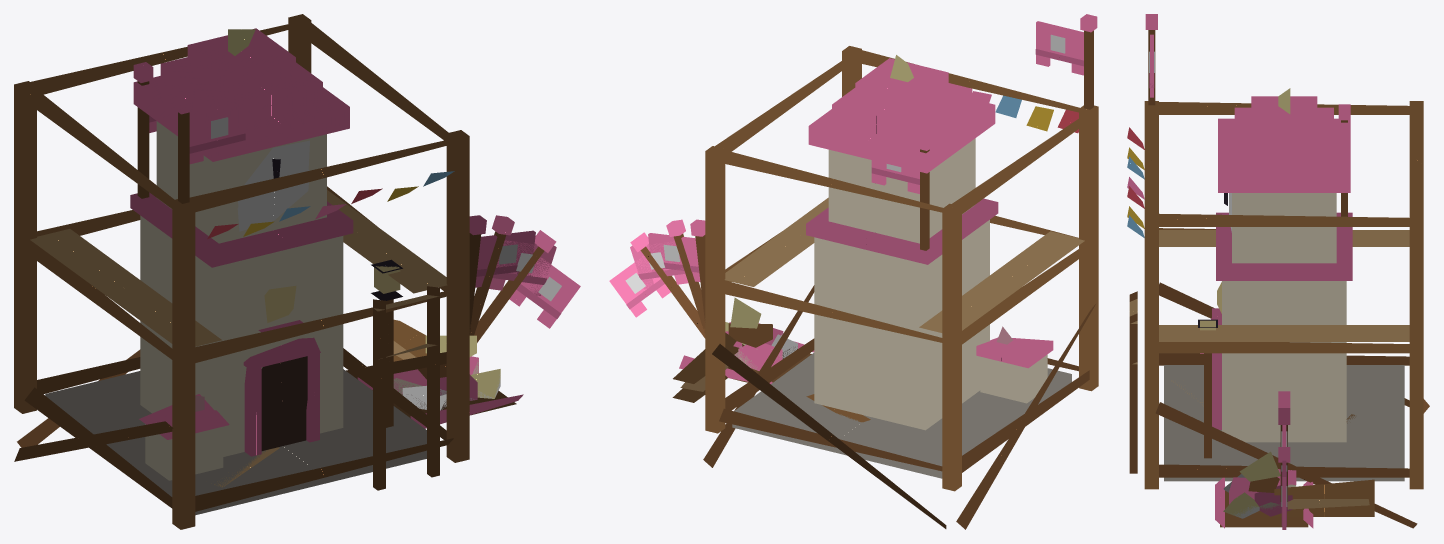
The model's file is opossum-research_lod1.glb.
3 views of the same model, side by side, from view 1: azimuth 30°, elevation 25°; view 2: azimuth 150°, elevation 25°; view 3: azimuth 270°, elevation 25° (orthographic). The views are drawn at different scales.
Visible parts, largest first — view 1: scaffold-mesh, built-mesh, dismantle-25-mesh, dismantle-75-mesh, dismantle-50-mesh, scaffold-banner, dismantle-25-banner, dismantle-75-banner, scaffold-flag-pole, dismantle-25-flag-pole, dismantle-50-banner, flag-pole (+2 smaller); view 2: scaffold-mesh, built-mesh, dismantle-25-mesh, dismantle-75-mesh, scaffold-banner, dismantle-25-banner, dismantle-75-banner, dismantle-50-mesh, dismantle-25-flag-pole, dismantle-50-banner, scaffold-flag-pole, flag-pole (+3 smaller); view 3: scaffold-mesh, built-mesh, dismantle-25-mesh, dismantle-75-mesh, dismantle-50-mesh, scaffold-flag-pole, flag-pole.
Boxes of the visible parts, x1,y1,x2,y2 form: scaffold-mesh: (14, 14, 469, 529); built-mesh: (45, 28, 426, 515); dismantle-25-mesh: (45, 335, 523, 495); dismantle-75-mesh: (130, 170, 522, 480); dismantle-50-mesh: (145, 356, 500, 479); scaffold-banner: (189, 101, 245, 164); dismantle-25-banner: (509, 257, 580, 328); dismantle-75-banner: (475, 230, 535, 287); scaffold-flag-pole: (174, 93, 193, 203); dismantle-25-flag-pole: (474, 230, 556, 342); dismantle-50-banner: (489, 240, 556, 295); flag-pole: (133, 62, 153, 198); scaffold-mesh: (672, 46, 1098, 529); built-mesh: (732, 55, 1071, 478); dismantle-25-mesh: (682, 297, 1071, 463); dismantle-75-mesh: (679, 198, 1047, 398); scaffold-banner: (1035, 21, 1083, 75); dismantle-25-banner: (609, 256, 670, 317); dismantle-75-banner: (648, 233, 700, 281); dismantle-50-mesh: (725, 322, 1047, 402); dismantle-25-flag-pole: (630, 232, 705, 338); dismantle-50-banner: (630, 241, 688, 289); scaffold-flag-pole: (1080, 14, 1097, 109); flag-pole: (916, 132, 933, 250); scaffold-mesh: (1127, 101, 1429, 528); built-mesh: (1164, 88, 1404, 481); dismantle-25-mesh: (1164, 365, 1404, 518); dismantle-75-mesh: (1204, 206, 1352, 528); dismantle-50-mesh: (1212, 357, 1291, 517); scaffold-flag-pole: (1145, 14, 1157, 105); flag-pole: (1338, 104, 1350, 216).
Size of the model in its own units: 2.35 by 2.19 by 1.51.
